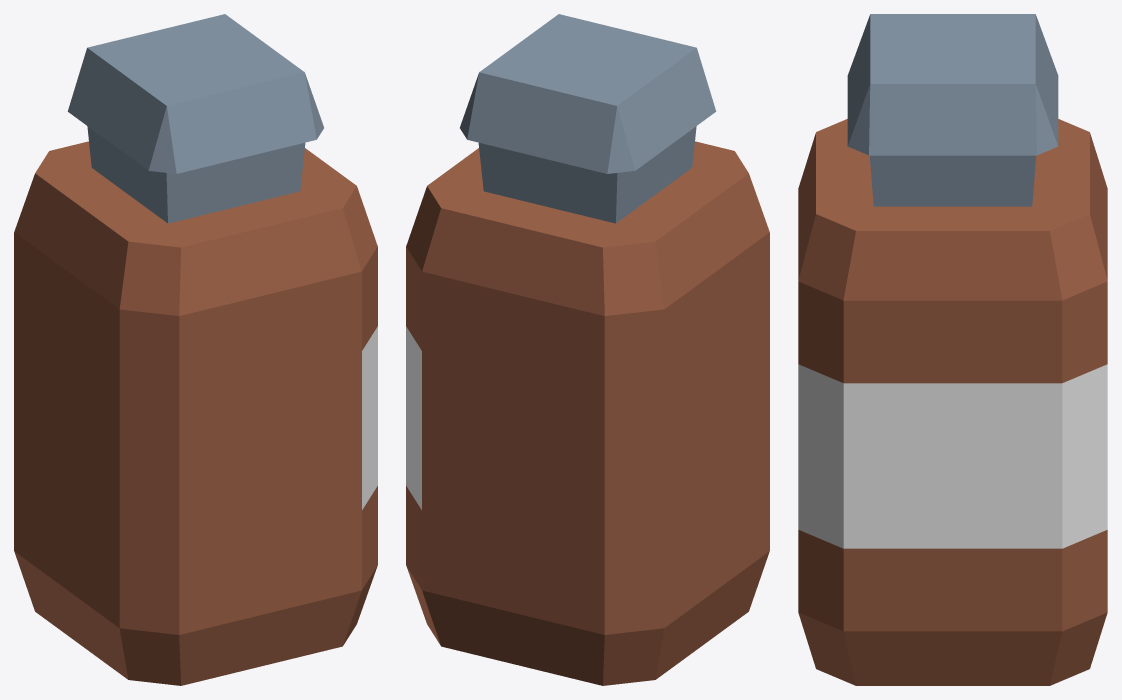
Rendered from shakerSalt.fbx.
The picture shows the model from 3 angles, left to right: view 1: azimuth 30°, elevation 25°; view 2: azimuth 150°, elevation 25°; view 3: azimuth 270°, elevation 25°; orthographic projection. The views are drawn at different scales.
Visible parts, largest first — view 1: shakerSalt; view 2: shakerSalt; view 3: shakerSalt.
Part boxes in pixels (box(x1,y1,x2,y2)): shakerSalt: box(14, 14, 377, 685); shakerSalt: box(406, 14, 769, 685); shakerSalt: box(798, 14, 1107, 685).
Bounding box in the file's own units: 0.9492 × 1.96 × 0.9492.
